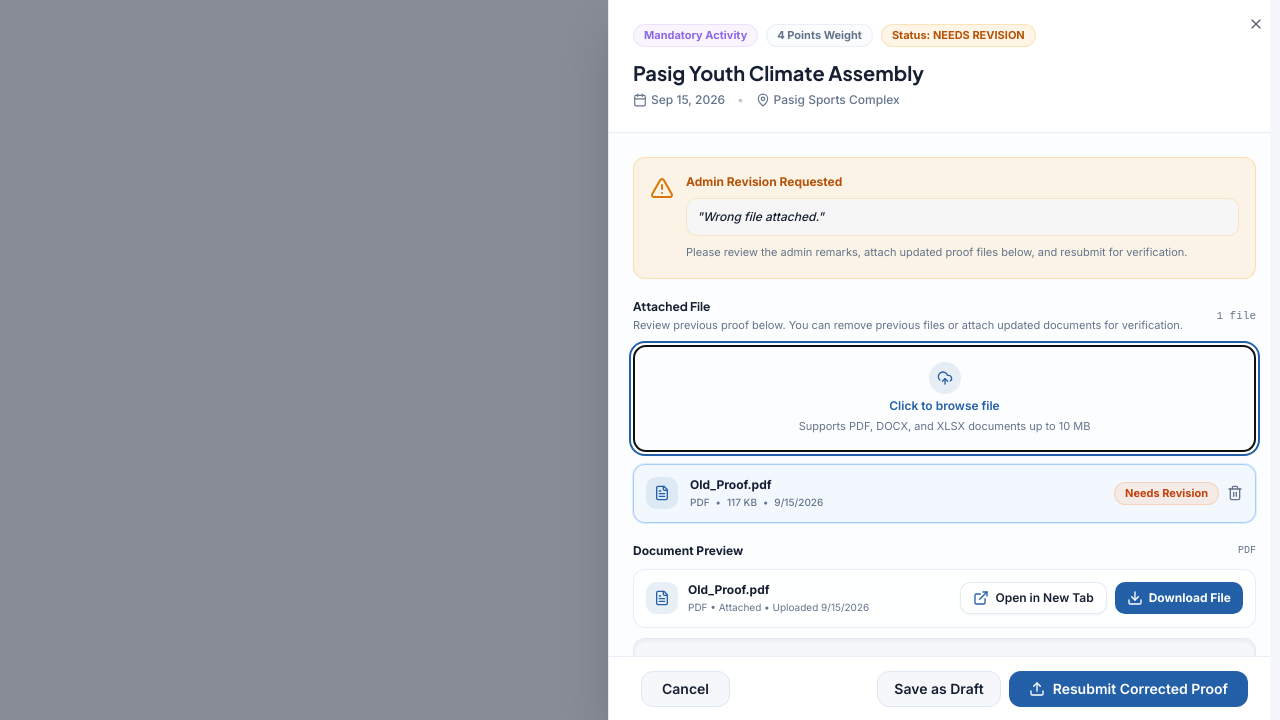
Test: YPOP Needs Revision File Replacement UX Suite › 1. City-Led Activity Workflow › TEST 2: Removing the old file places it in pending deletion, hiding it from the active list
The width and height of the screenshot is (1280, 720).
Expected: the 1st text "Old_Proof.pdf" is shown, [690,477,772,492]
Click remove on the previous proof
Click the button titled "Remove file" at [1235, 493], box [1227,485,1243,501]
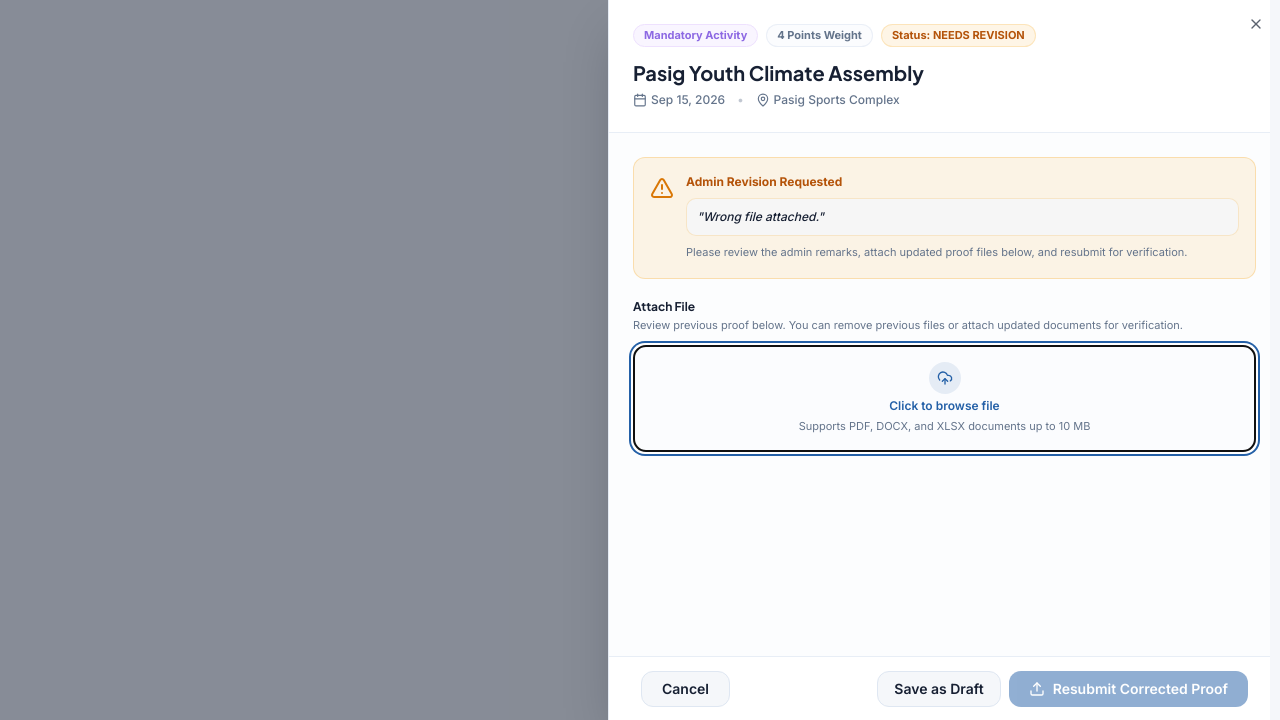
Result: the button "Old_Proof.pdf" is gone
